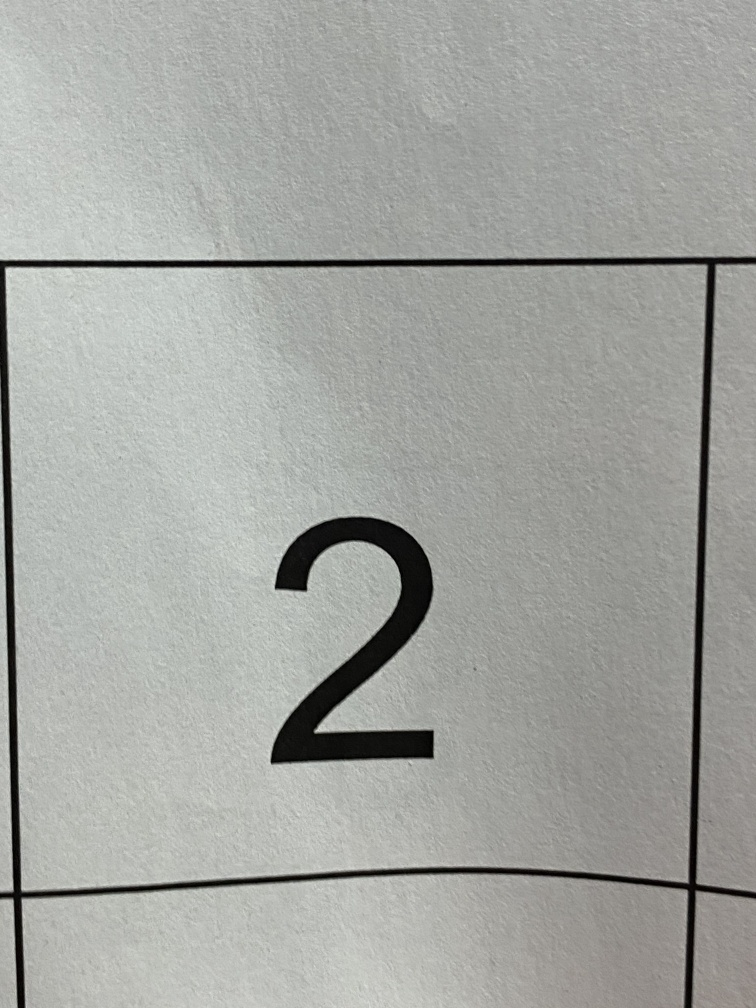two: (224, 464, 499, 841)
